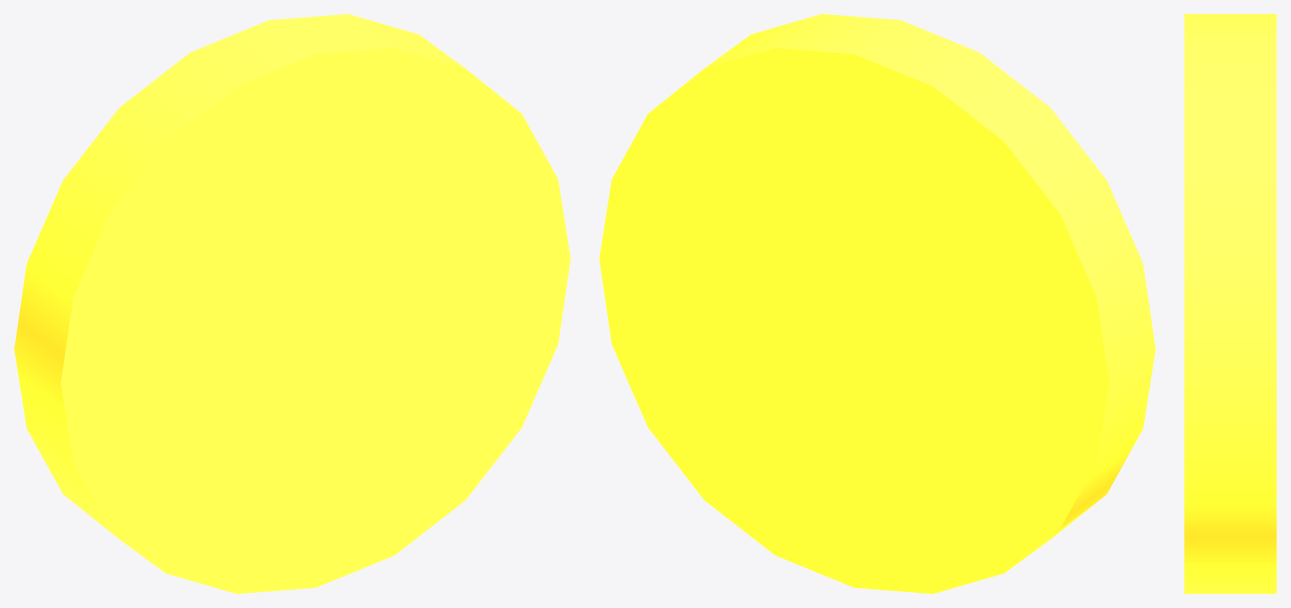
File: coin.gltf
The picture shows the model from 3 angles, left to right: view 1: azimuth 30°, elevation 25°; view 2: azimuth 150°, elevation 25°; view 3: azimuth 270°, elevation 25°; orthographic projection.
Visible parts, largest first — view 1: coin_0; view 2: coin_0; view 3: coin_0.
Part boxes in pixels (bbox=[...]): coin_0: bbox=[14, 14, 570, 593]; coin_0: bbox=[599, 14, 1155, 593]; coin_0: bbox=[1184, 14, 1276, 593].
Bounding box in the file's own units: 0.76 × 0.76 × 0.12.
